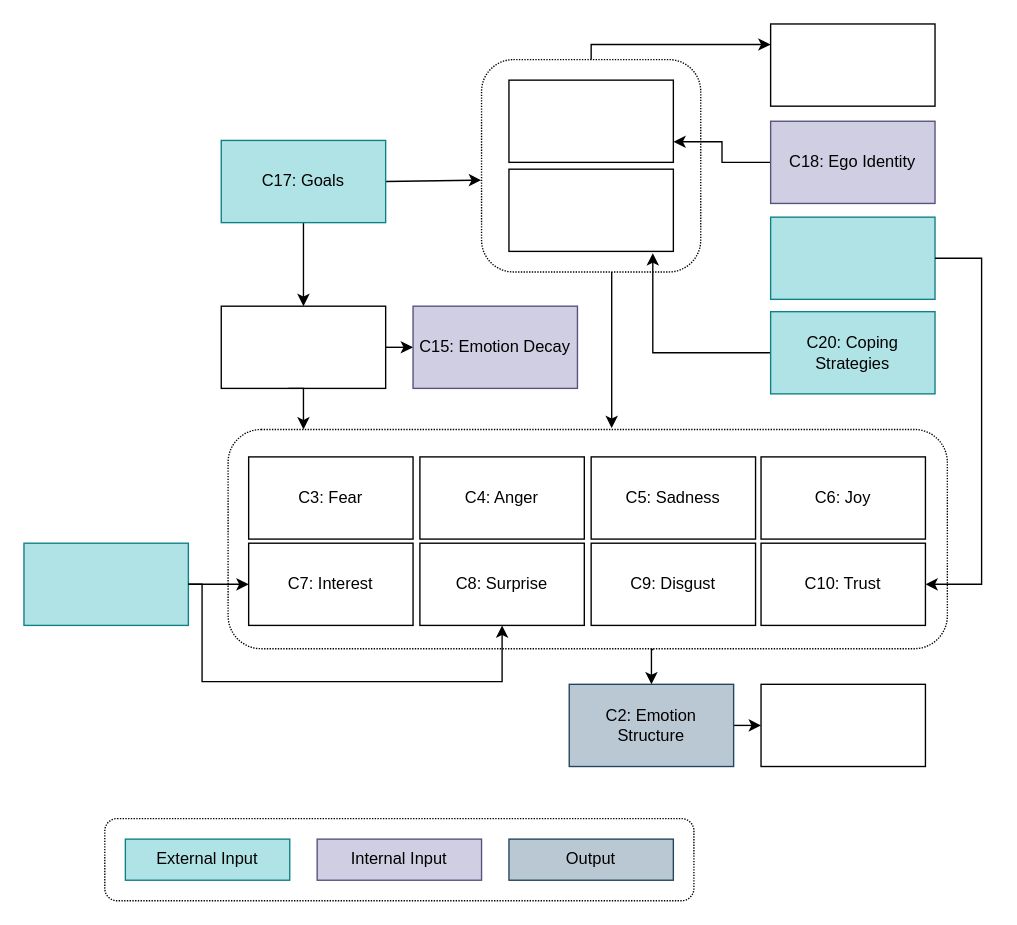
The diagram is 1017 pixels wide and 925 high, and some of its shapes have lost their labels. The box of each missing label's shape, as (x1, y1, x2, y2) in pixels:
C11: Mixing Emotions: (760, 683, 925, 767)
C12: Primary Appraisal: (508, 79, 673, 162)
C13: Secondary Appraisal: (508, 168, 673, 251)
C14: Appraisal: (769, 23, 935, 106)
C16: Attention: (23, 542, 188, 625)
C19: Social Relationship: (769, 216, 935, 299)
C1: Emotion: (220, 305, 386, 388)
Legend: (103, 817, 694, 901)
